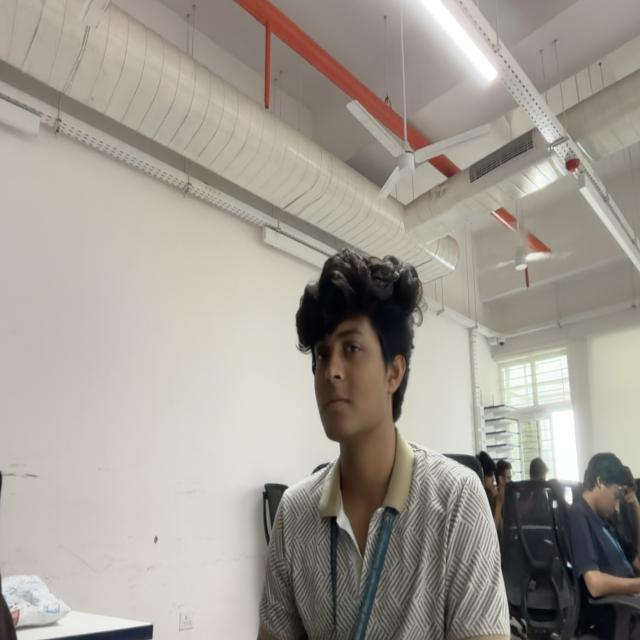kshitij: (296, 254, 424, 444)
